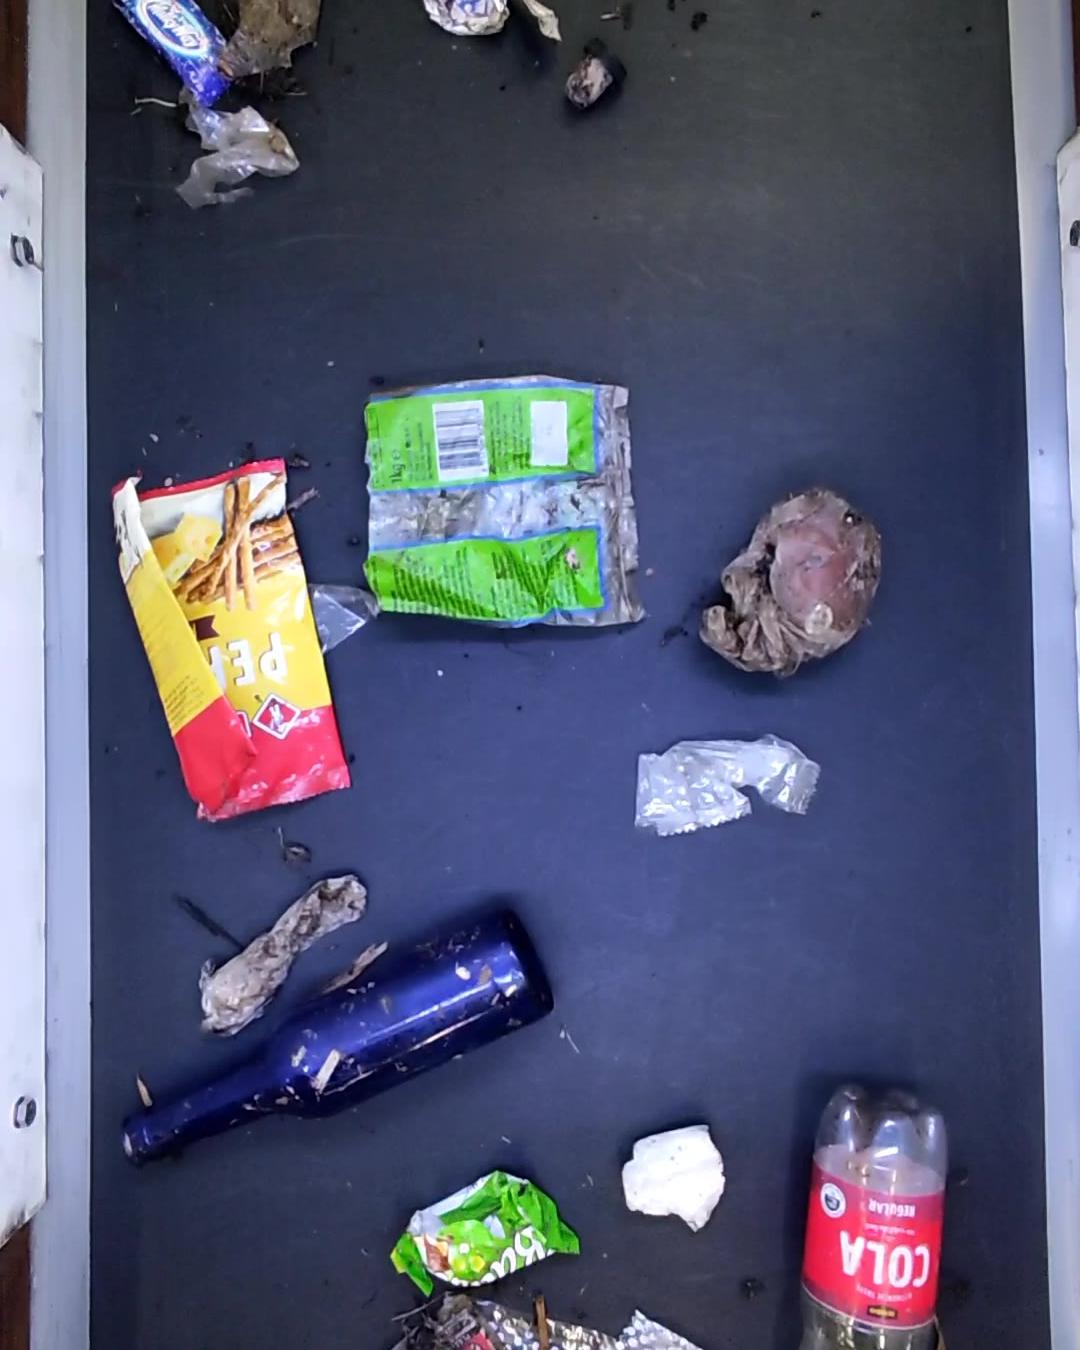Drankflessen - 1-2 liter: (789, 1082, 954, 1350)
Plastic folies of stukken daarvan 2.5- 50 cm: (700, 488, 884, 677), (194, 863, 363, 1041), (173, 106, 312, 210), (228, 0, 321, 82), (309, 575, 374, 656)
Snoep snack en chips verpakkingen: (108, 457, 346, 824), (392, 1162, 575, 1292), (635, 731, 823, 840), (407, 1292, 716, 1350), (110, 0, 236, 102)
Voedselverpakkingen: (365, 375, 649, 631)
